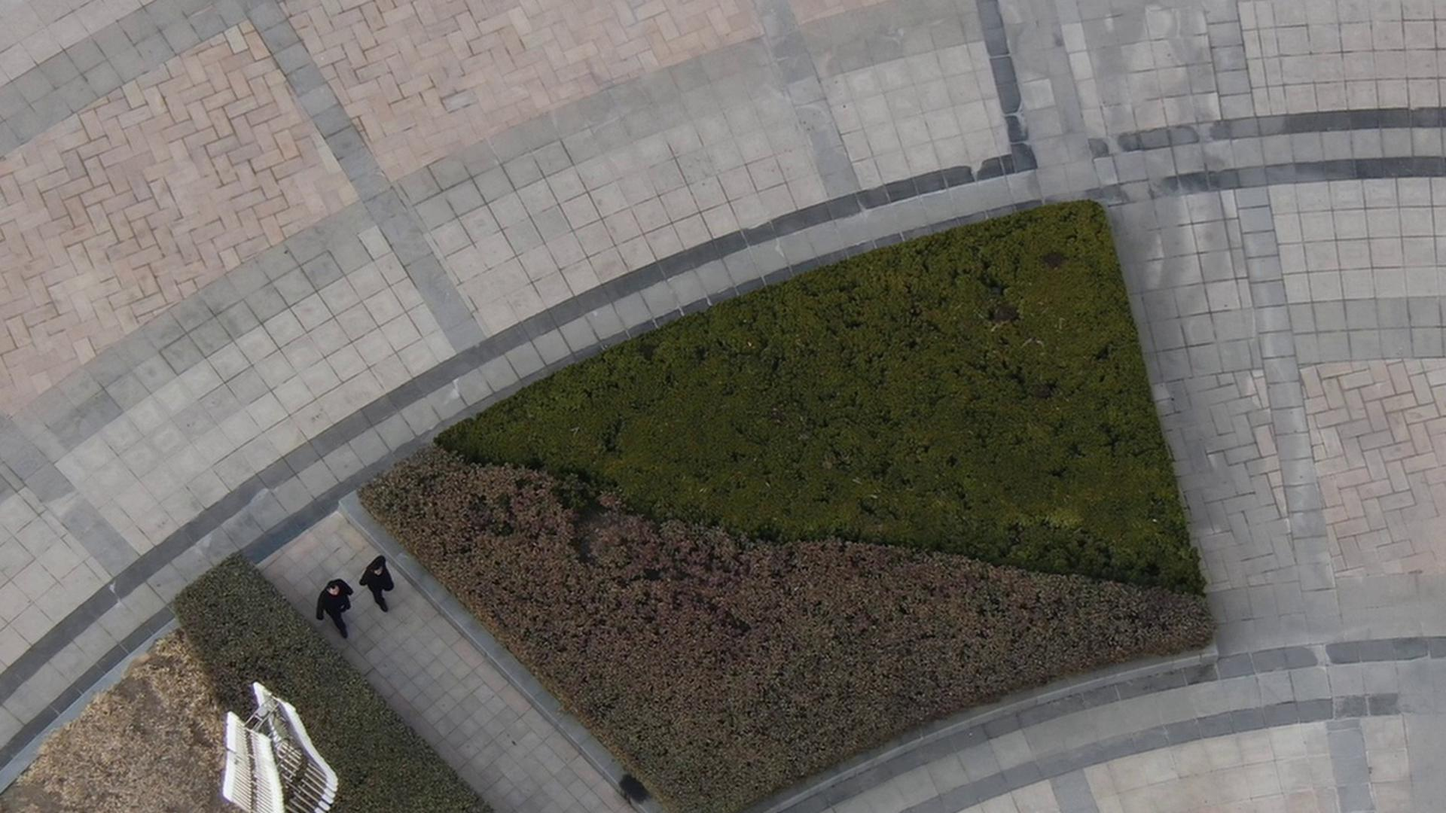human: (317, 571, 365, 641), (355, 551, 404, 617)
